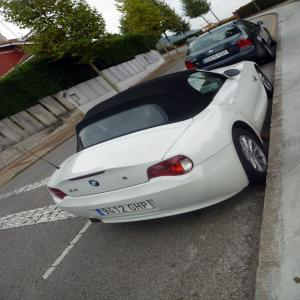Vehicle-registration-plate: (95, 203, 155, 218)
